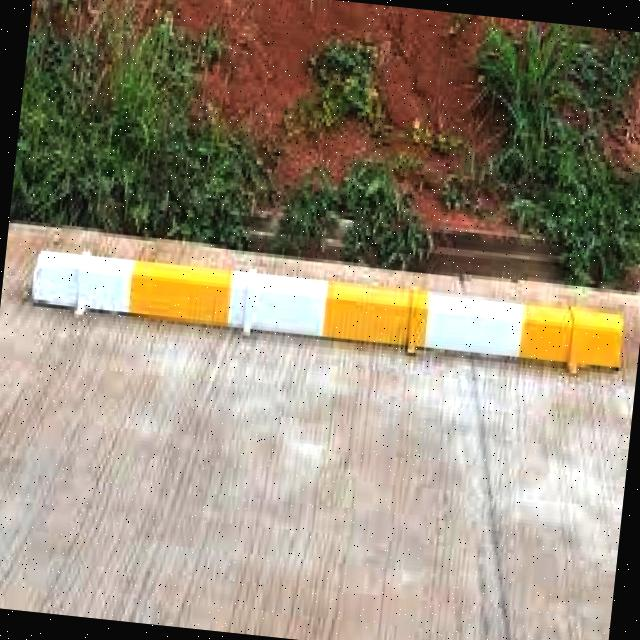curb: (24, 253, 640, 374)
